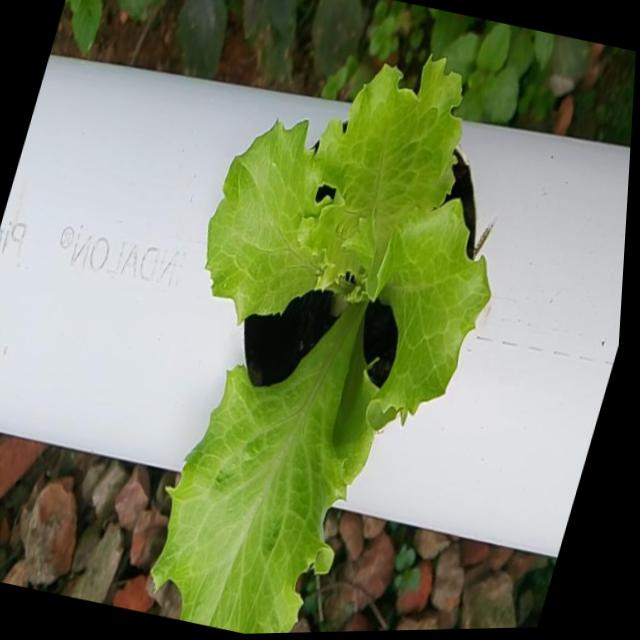Baby: (154, 46, 493, 634)
